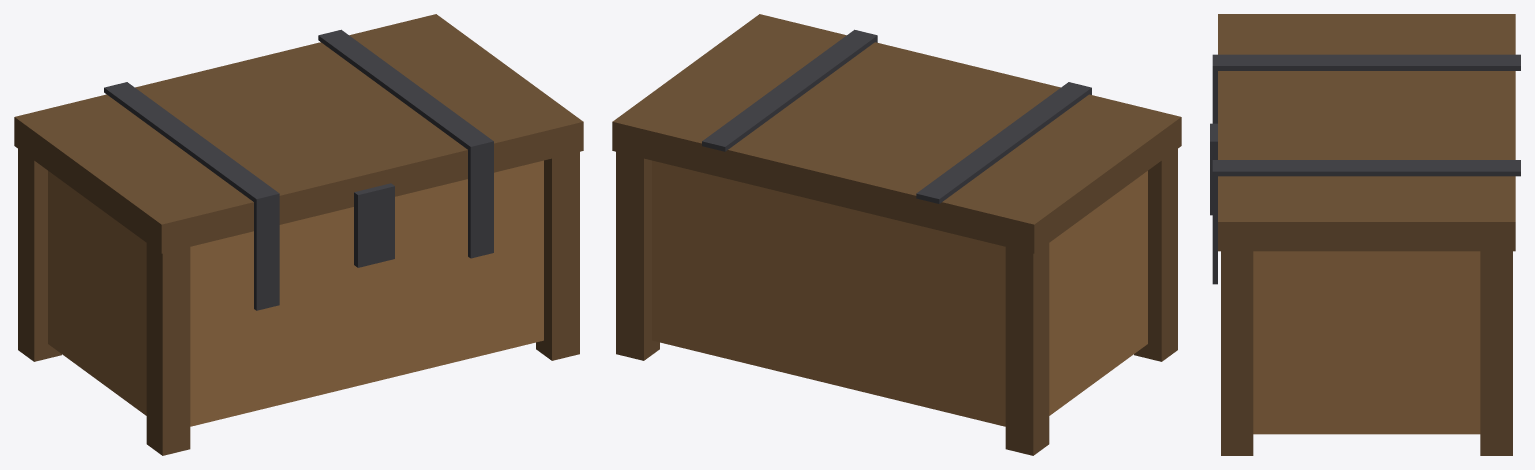
File: Chest.fbx
The picture shows the model from 3 angles, left to right: view 1: azimuth 30°, elevation 25°; view 2: azimuth 150°, elevation 25°; view 3: azimuth 270°, elevation 25°; orthographic projection.
Parts seen in each view (by area): view 1: Chest; view 2: Chest; view 3: Chest.
Boxes of the visible parts, x1,y1,x2,y2 form: Chest: (14, 14, 583, 455); Chest: (612, 14, 1181, 455); Chest: (1210, 14, 1520, 455).
Size of the model in its own units: 0.91 by 0.49 by 0.575.
